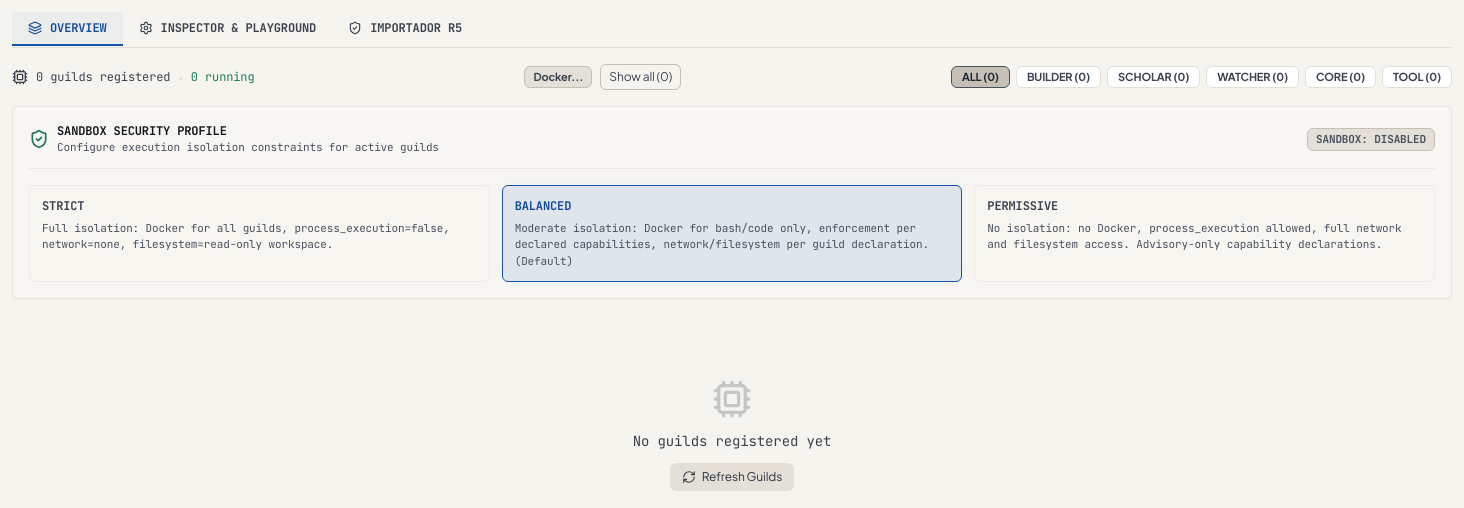
Test case: GuildsTab — Caja R5 del enrutador (T4457) › permite abrir la subpestaña Importador R5 y muestra la maqueta simulada ADR-033
Click the button "Importador R5" at (405,29), box [332,12,478,46]
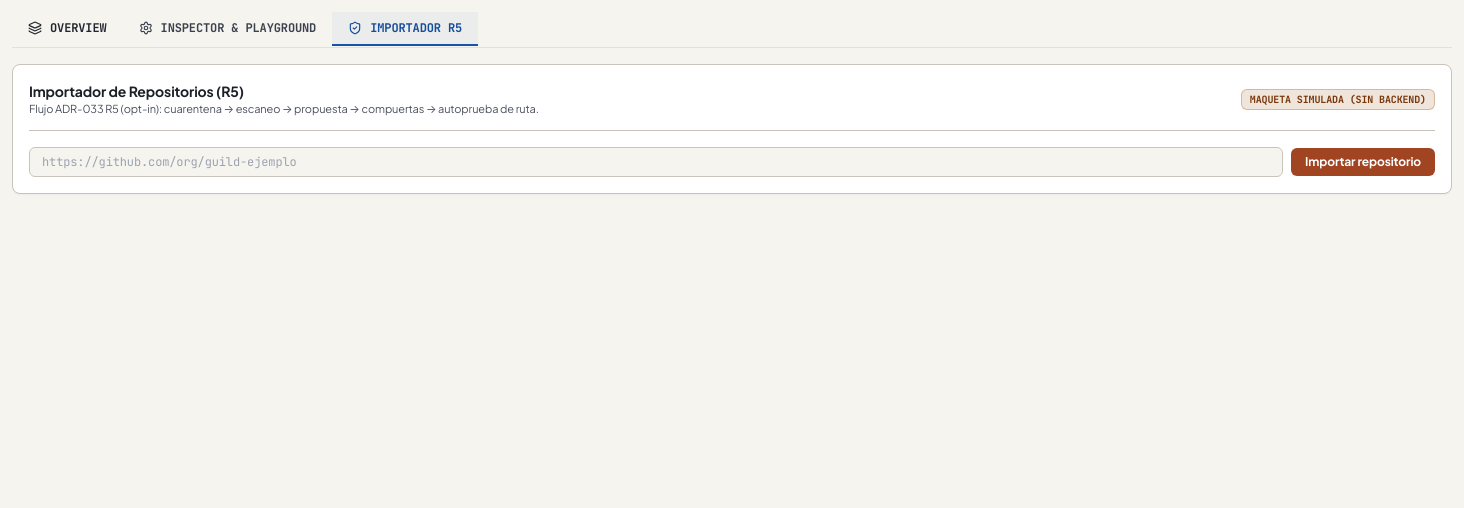
Expected: the field named "URL del repositorio a importar" is shown, [29,146,1283,176]
Expected: the button "Importar repositorio" is shown, [1291,148,1435,176]
